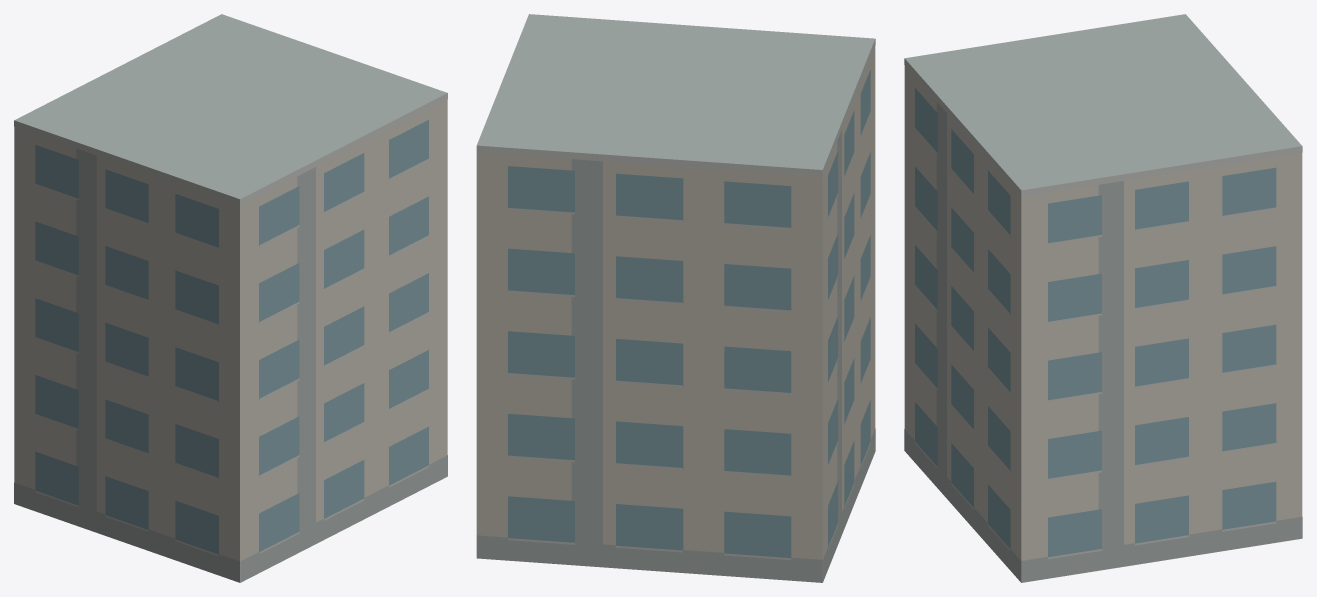
Rendered from survey-upis-32584550.glb.
The picture shows the model from 3 angles, left to right: view 1: azimuth 30°, elevation 25°; view 2: azimuth 150°, elevation 25°; view 3: azimuth 270°, elevation 25°; orthographic projection. The views are drawn at different scales.
Visible parts, largest first — view 1: survey-upis-32584550.tmp; view 2: survey-upis-32584550.tmp; view 3: survey-upis-32584550.tmp.
Boxes of the visible parts, left/top/right/bottom form: survey-upis-32584550.tmp: left=14, top=14, right=447, bottom=582; survey-upis-32584550.tmp: left=476, top=14, right=875, bottom=582; survey-upis-32584550.tmp: left=904, top=14, right=1302, bottom=582.
Size of the model in its own units: 14.03 by 14.55 by 13.38.
